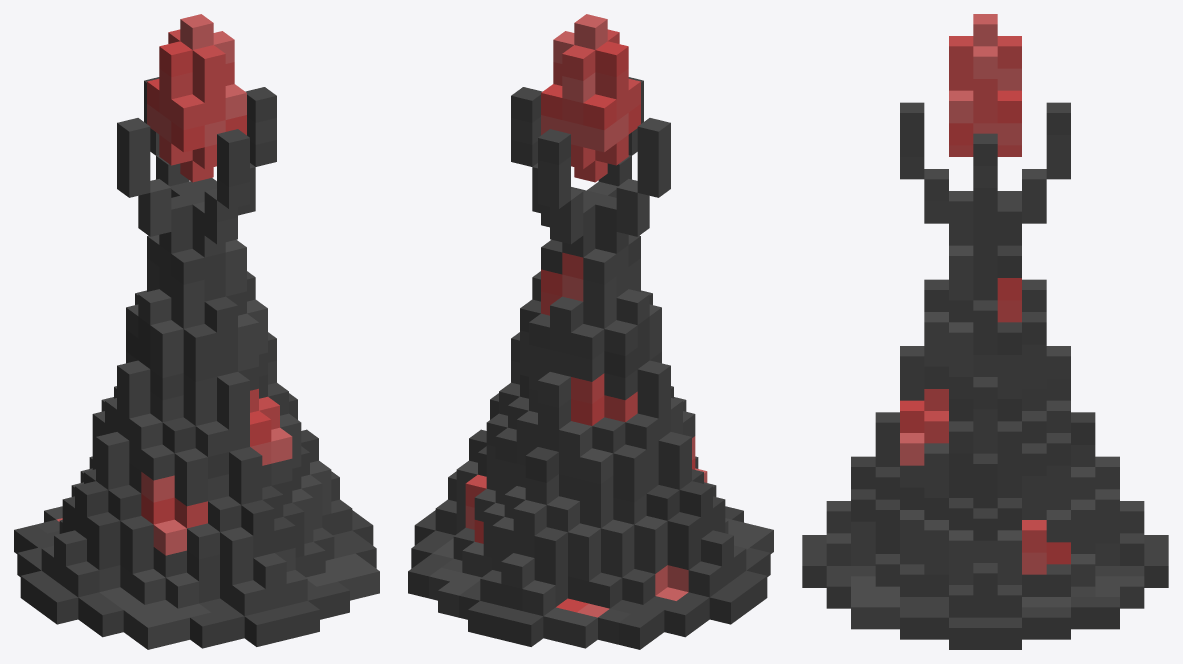
The model's file is Vulcano Mage Tower.obj.
The picture shows the model from 3 angles, left to right: view 1: azimuth 30°, elevation 25°; view 2: azimuth 150°, elevation 25°; view 3: azimuth 270°, elevation 25°; orthographic projection.
Size of the model in its own units: 1.5 by 2.5 by 1.5.
1 material, 1 textured.
